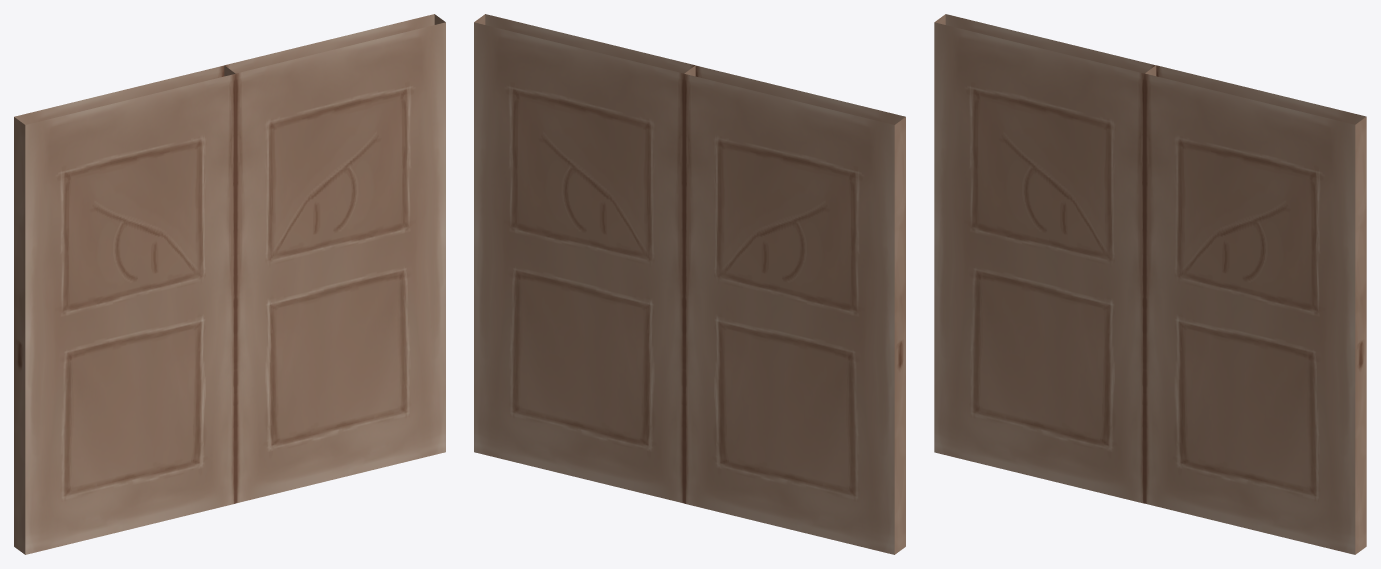
File: DoorSeparete.fbx
3 renders of one model, left to right at view 1: azimuth 30°, elevation 25°; view 2: azimuth 150°, elevation 25°; view 3: azimuth 330°, elevation 25°, orthographic.
Parts seen in each view (by area): view 1: Door_R, Door_L; view 2: Door_R, Door_L; view 3: Door_L, Door_R.
Boxes of the visible parts, left/top/right/bottom form: Door_R: left=14, top=65, right=235, bottom=554; Door_L: left=224, top=14, right=445, bottom=503; Door_R: left=684, top=65, right=905, bottom=554; Door_L: left=474, top=14, right=695, bottom=503; Door_L: left=1144, top=65, right=1366, bottom=554; Door_R: left=934, top=14, right=1155, bottom=503.
Size of the model in its own units: 6.85 by 6.69 by 0.32.
